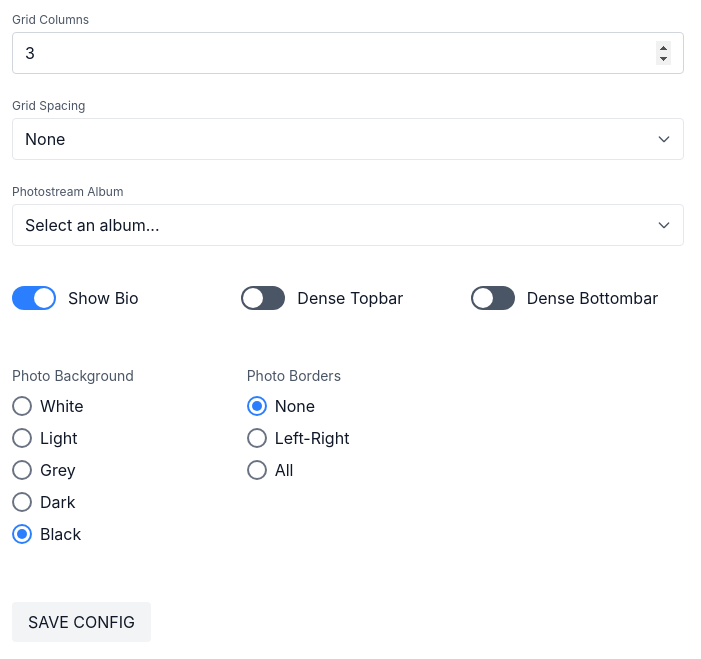
Test: UxConfig › re-seeds the form from the store after a save
Replace the text in the number field labelled "Grid Columns" with "999": (348, 53) [12, 32, 684, 74]
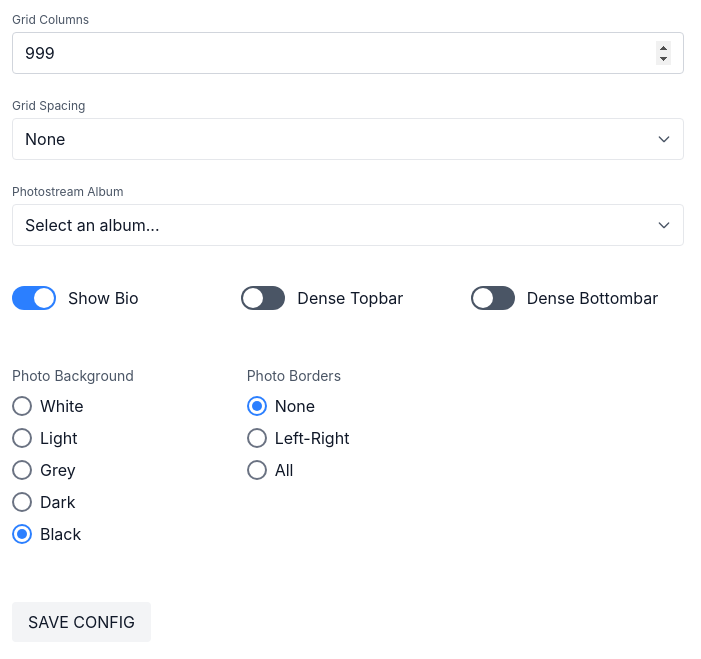
Click the button "SAVE CONFIG": (82, 622) [12, 602, 151, 642]
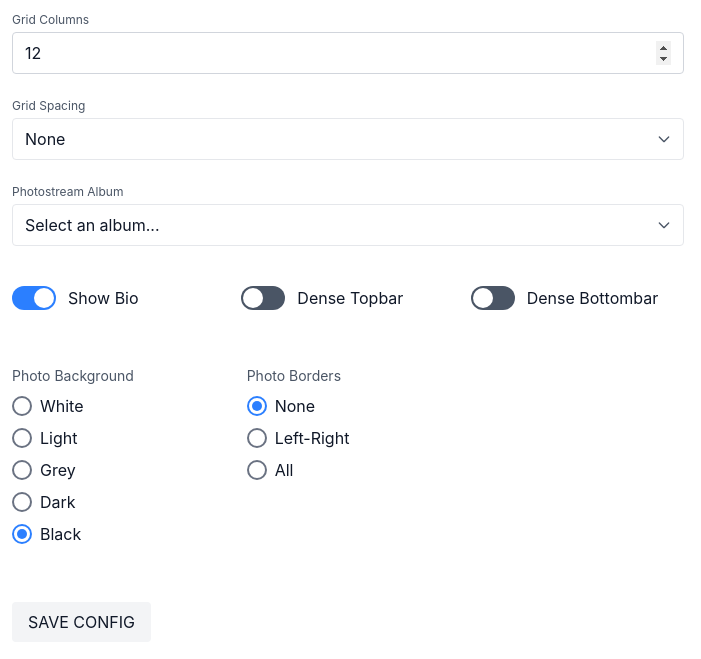
Expected: the number field labelled "Grid Columns" holds "12", [12, 32, 684, 74]
